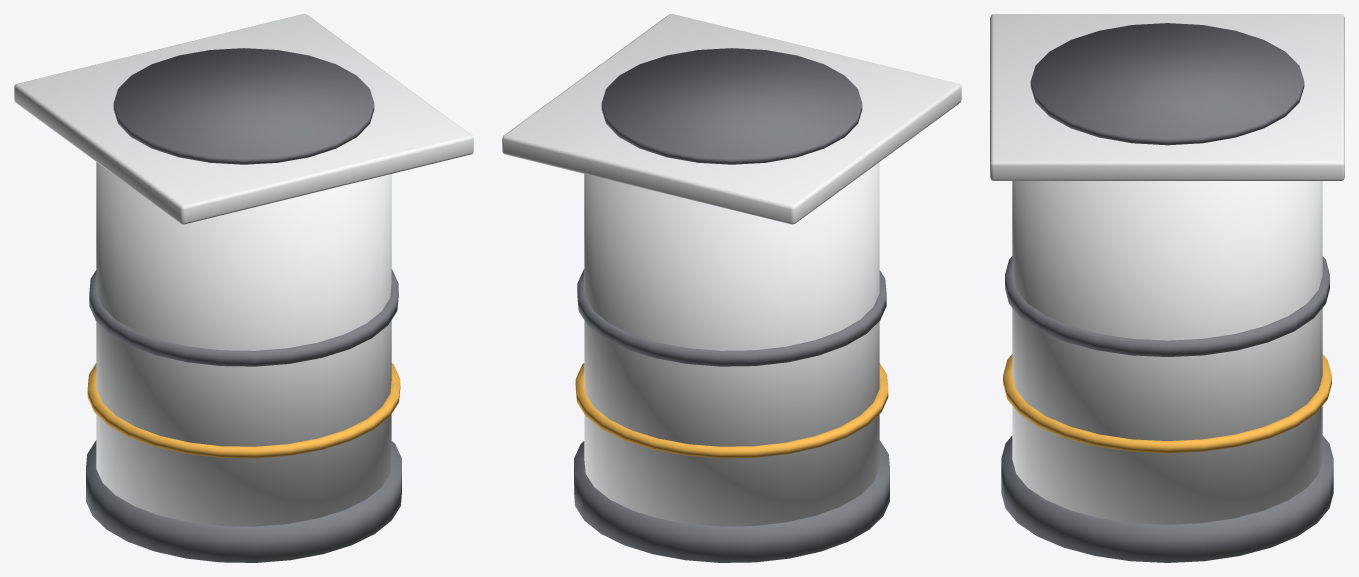
File: vent.gltf
The picture shows the model from 3 angles, left to right: view 1: azimuth 30°, elevation 25°; view 2: azimuth 150°, elevation 25°; view 3: azimuth 270°, elevation 25°; orthographic projection. The views are drawn at different scales.
Parts seen in each view (by area): view 1: vent; view 2: vent; view 3: vent.
Part boxes in pixels (<box>): vent: <box>14,14,473,562</box>; vent: <box>502,14,961,562</box>; vent: <box>990,14,1344,562</box>.
Size of the model in its own units: 0.96 by 1.23 by 0.96.
